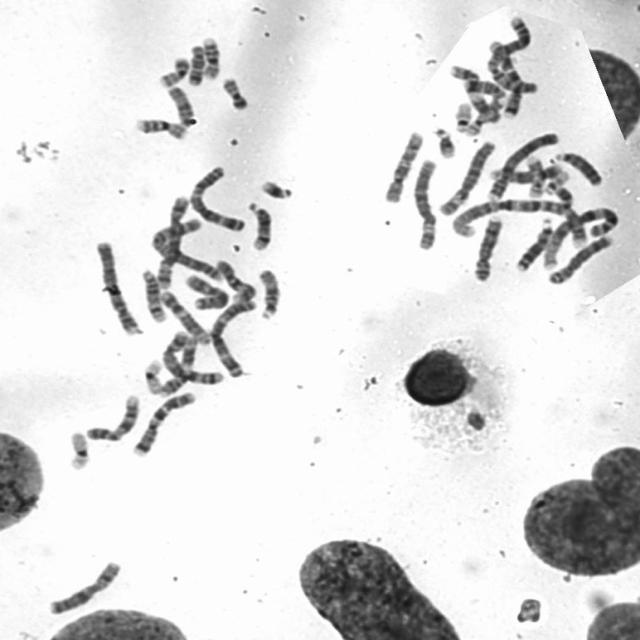A1: (443, 194, 592, 248), (540, 202, 621, 272)
A2: (146, 209, 222, 283), (481, 18, 536, 100)
A3: (186, 161, 247, 233), (206, 295, 258, 379)
B4: (484, 128, 561, 202), (91, 236, 144, 337)
B5: (157, 329, 225, 386), (152, 193, 192, 289)
C10: (381, 127, 426, 204), (211, 256, 258, 304)
C11: (446, 61, 503, 126), (156, 331, 198, 399)
C12: (156, 287, 212, 346), (485, 160, 569, 183)
C6: (434, 135, 499, 218), (409, 154, 441, 252)
C7: (129, 387, 198, 458), (483, 35, 526, 119)
C8: (544, 232, 617, 286), (470, 212, 506, 282)
C9: (81, 390, 141, 442), (485, 159, 568, 184)
D13: (512, 213, 556, 273), (551, 148, 605, 188)
D14: (137, 265, 168, 324), (243, 197, 274, 252)
D15: (254, 266, 284, 320), (164, 82, 198, 128)
E16: (132, 113, 190, 141), (199, 33, 224, 80)
E17: (461, 93, 506, 137), (522, 152, 546, 198)
E18: (460, 78, 507, 101), (184, 41, 206, 87)
F19: (64, 427, 93, 472), (140, 354, 166, 396)
F20: (154, 52, 192, 88), (218, 72, 251, 112)
G21: (430, 122, 458, 160), (257, 175, 296, 201)
G22: (450, 97, 475, 134), (540, 166, 570, 194)
X: (43, 556, 124, 616), (182, 270, 231, 312)
